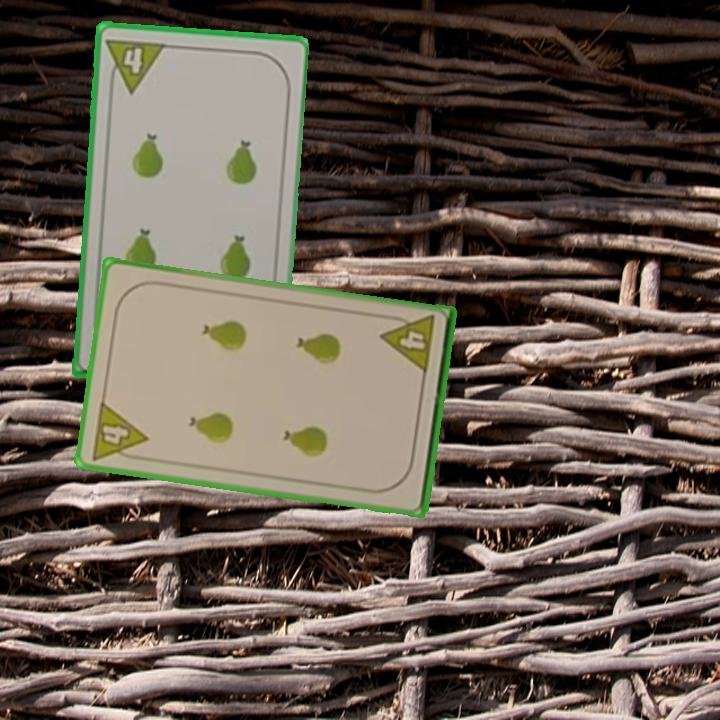4p: (87, 398, 150, 465), (103, 34, 168, 96), (378, 311, 438, 377)
